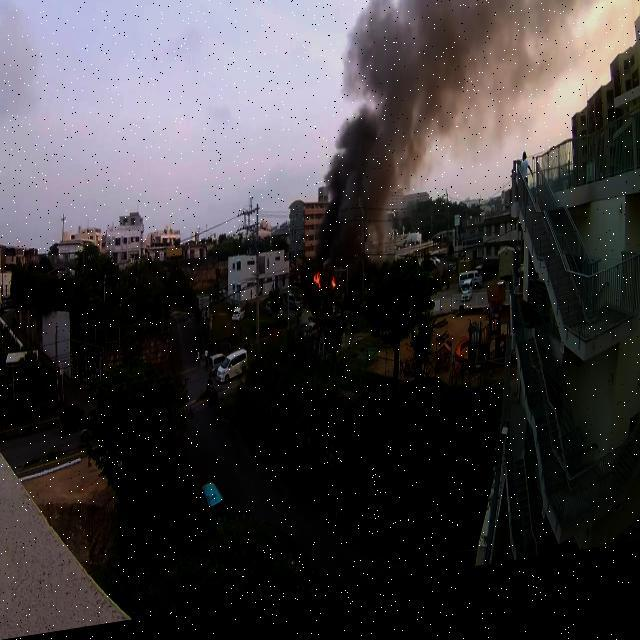Fire: (311, 280, 320, 295), (330, 286, 338, 302)
